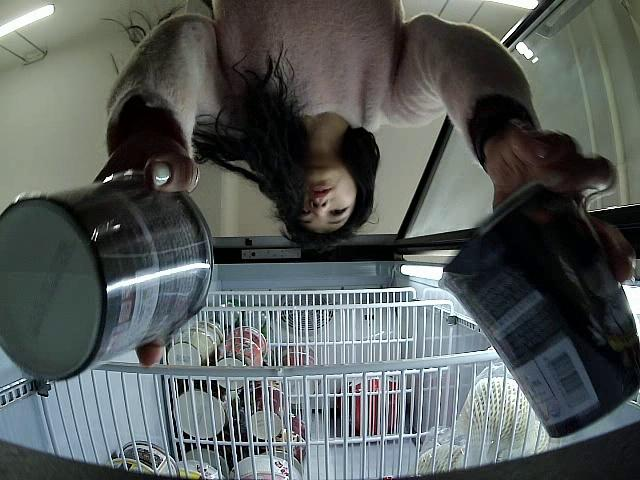00_hand: (89, 116, 201, 368), (484, 121, 630, 296)
08_buldak_S: (441, 176, 640, 439), (0, 176, 214, 382)
